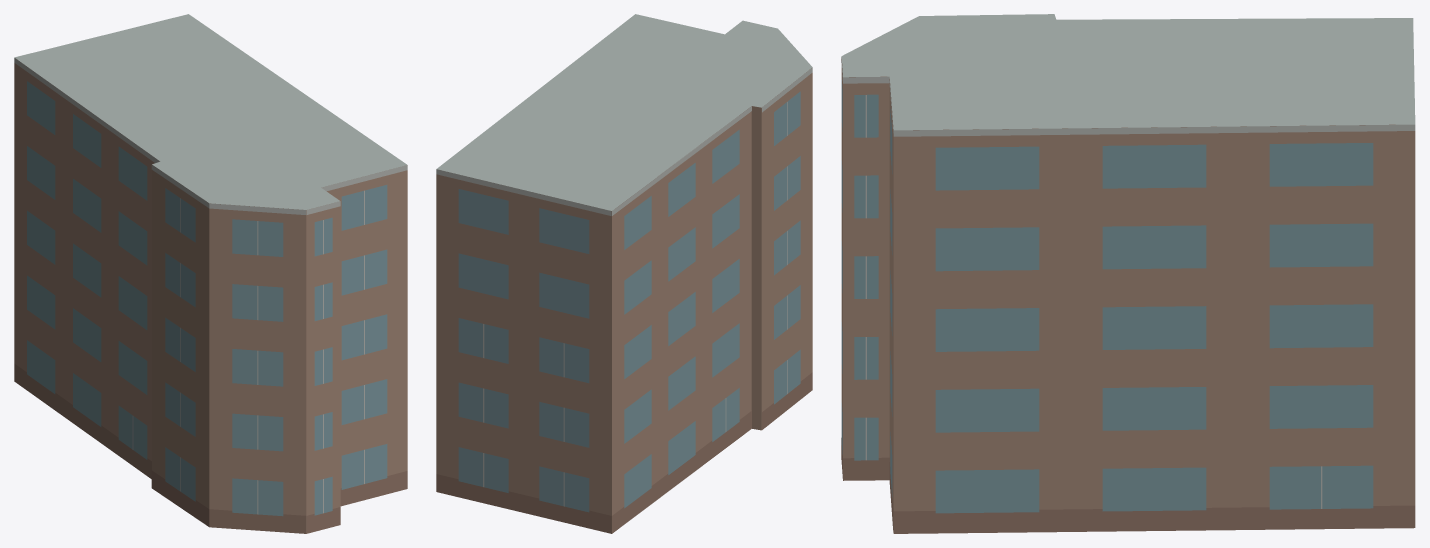
Rendered from survey-upis-32670062.glb.
The picture shows the model from 3 angles, left to right: view 1: azimuth 30°, elevation 25°; view 2: azimuth 150°, elevation 25°; view 3: azimuth 270°, elevation 25°; orthographic projection. The views are drawn at different scales.
Parts seen in each view (by area): view 1: survey-upis-32670062.tmp; view 2: survey-upis-32670062.tmp; view 3: survey-upis-32670062.tmp.
Boxes of the visible parts, <box> form: survey-upis-32670062.tmp: <box>14,14,407,533</box>; survey-upis-32670062.tmp: <box>436,14,812,533</box>; survey-upis-32670062.tmp: <box>841,14,1415,533</box>.
Bounding box in the file's own units: 9.44 × 15.25 × 19.66.
